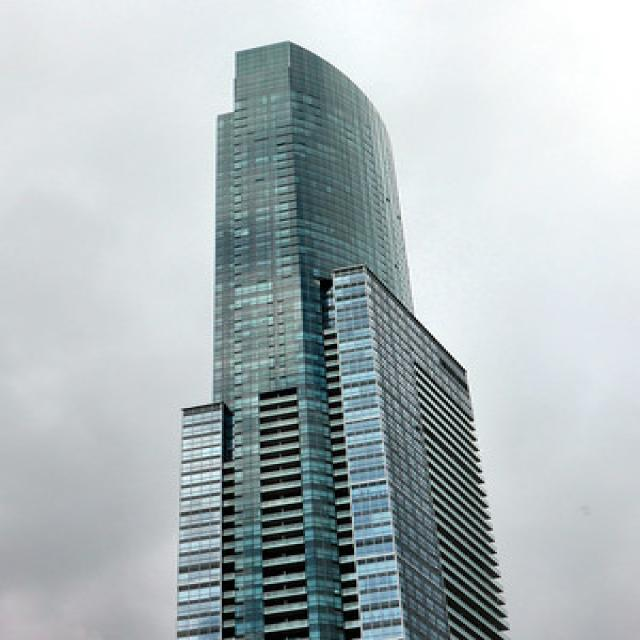building: (170, 27, 515, 640)
